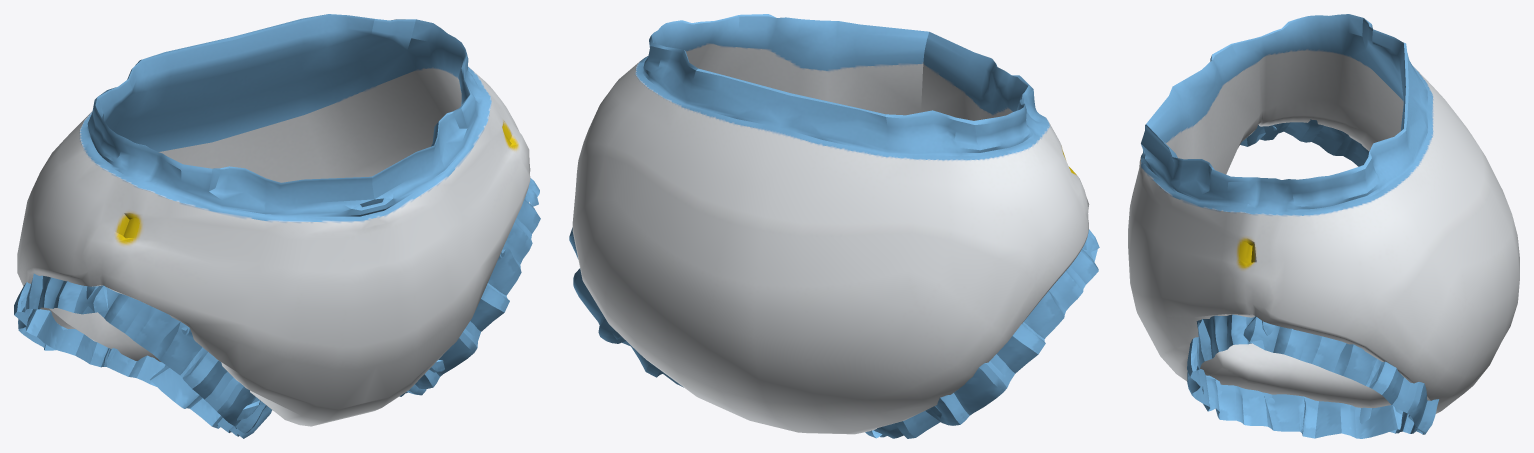
Rendered from Parent_Run_Diaper.fbx.
The picture shows the model from 3 angles, left to right: view 1: azimuth 30°, elevation 25°; view 2: azimuth 150°, elevation 25°; view 3: azimuth 270°, elevation 25°; orthographic projection. The views are drawn at different scales.
Parts seen in each view (by area): view 1: Diaper; view 2: Diaper; view 3: Diaper.
Part boxes in pixels (bbox=[...]): Diaper: bbox=[14, 14, 540, 438]; Diaper: bbox=[569, 14, 1099, 438]; Diaper: bbox=[1128, 14, 1519, 438].
Bounding box in the file's own units: 196 × 131 × 145.
